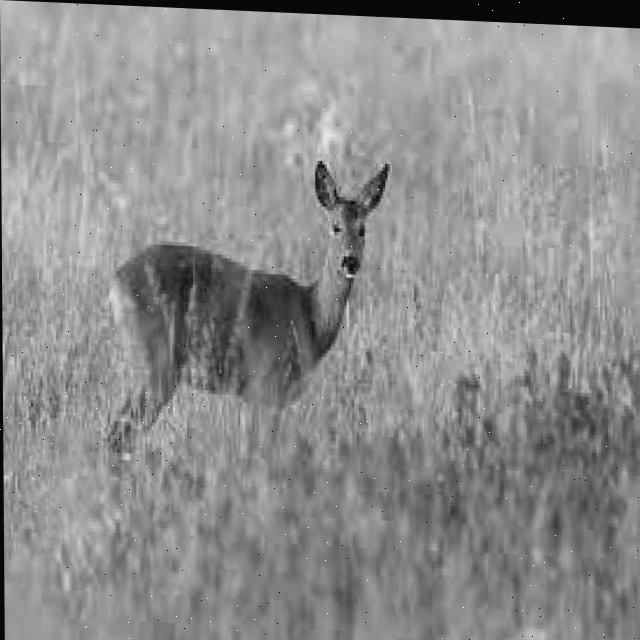Deer: (89, 146, 395, 487)
